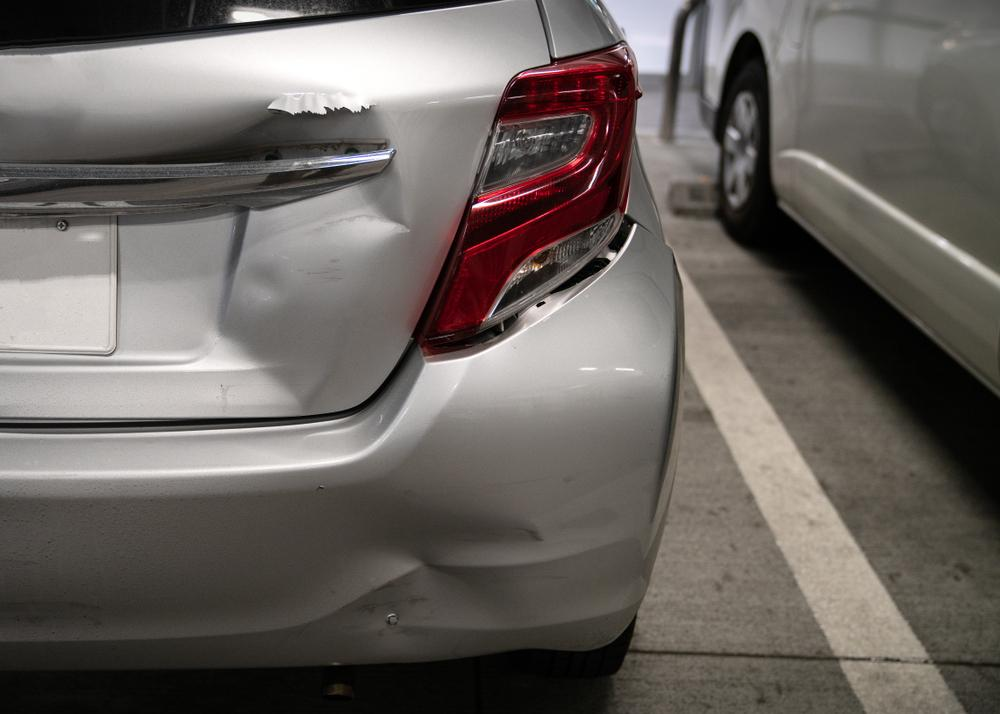dent: (168, 89, 418, 402), (321, 485, 537, 658)
